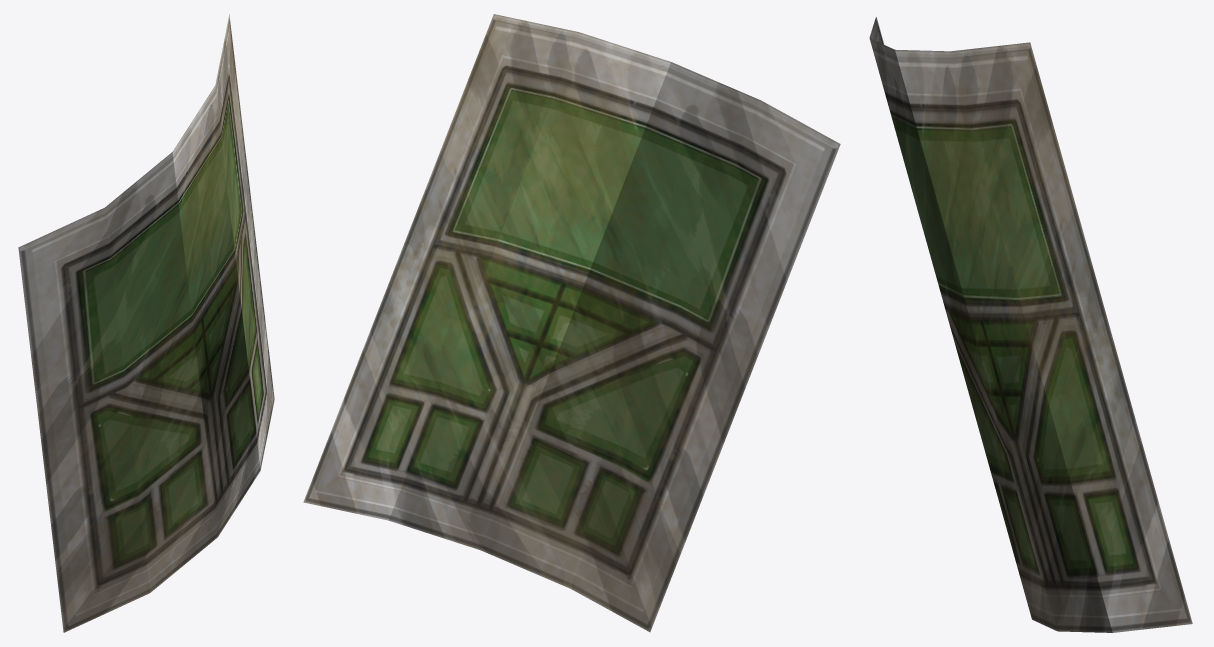
File: jugger_shield.FBX
3 renders of one model, left to right at view 1: azimuth 30°, elevation 25°; view 2: azimuth 150°, elevation 25°; view 3: azimuth 270°, elevation 25°, orthographic. The views are drawn at different scales.
Parts seen in each view (by area): view 1: polySurface102; view 2: polySurface102; view 3: polySurface102.
Part boxes in pixels (box(x1,y1,x2,y2)): polySurface102: box(18, 14, 274, 632); polySurface102: box(303, 14, 840, 632); polySurface102: box(869, 17, 1192, 632).
Bounding box in the file's own units: 0.8493 × 1.18 × 0.5499.
